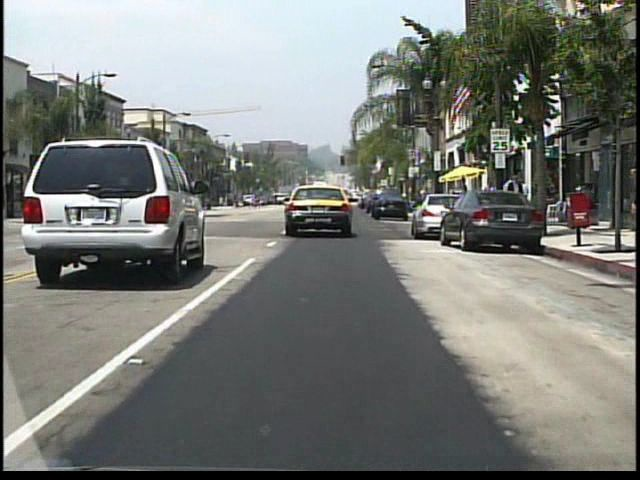person: (505, 173, 526, 220), (516, 179, 532, 221), (496, 179, 510, 218), (508, 182, 520, 217), (271, 191, 279, 206)
